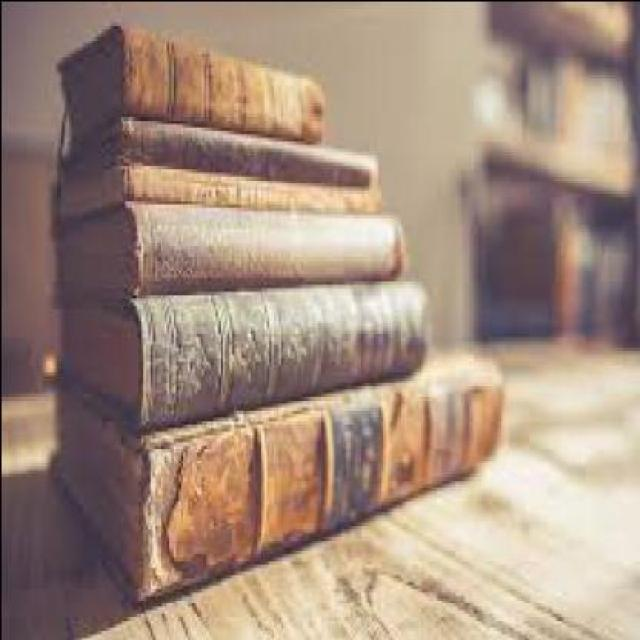PAPER: (49, 350, 505, 608), (60, 273, 426, 427), (56, 196, 410, 301), (58, 18, 328, 147), (60, 109, 382, 182), (56, 164, 384, 213)
